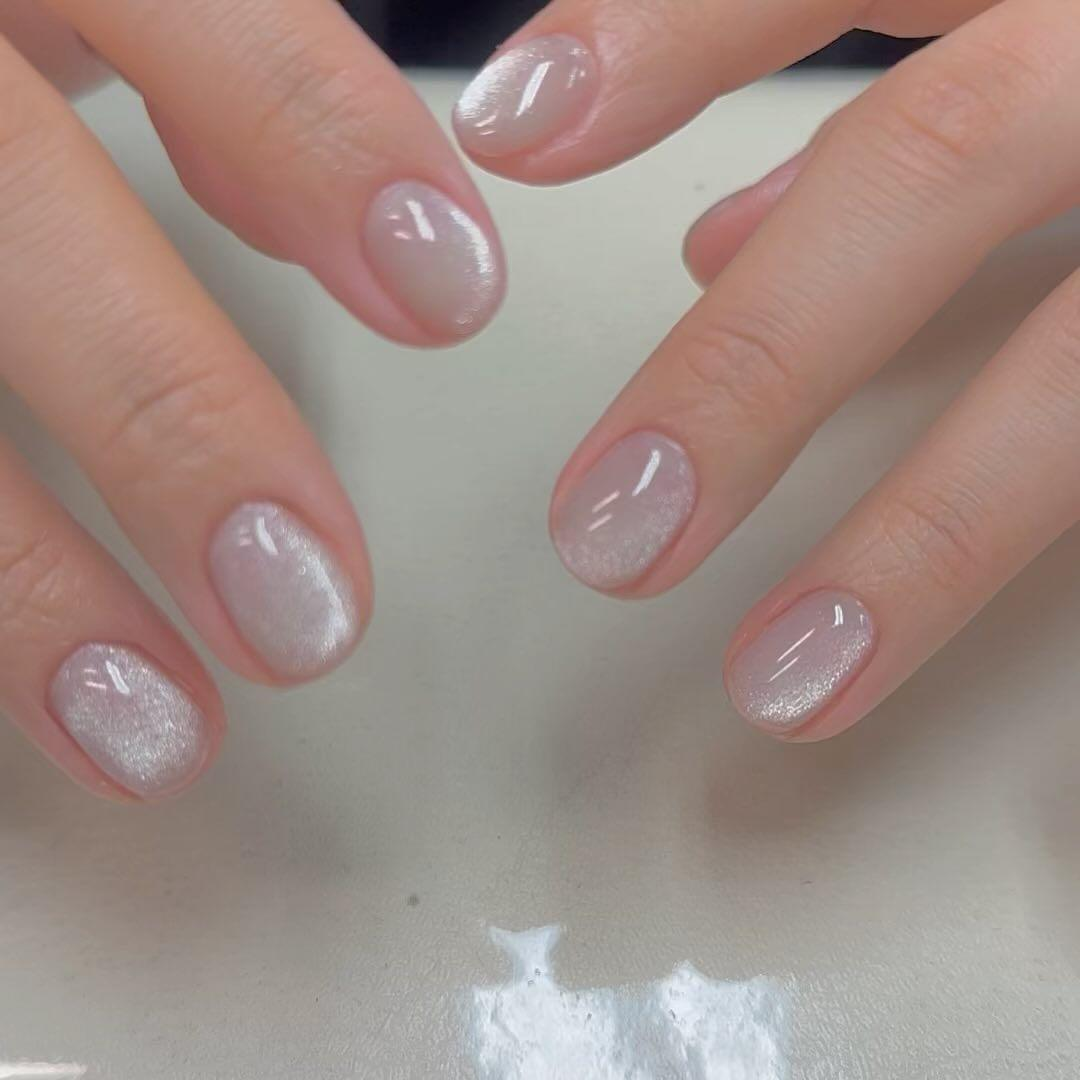nail: (203, 495, 365, 683), (43, 637, 213, 800), (546, 424, 699, 594), (359, 175, 506, 341), (722, 584, 878, 737), (680, 144, 814, 292), (450, 30, 599, 161)
